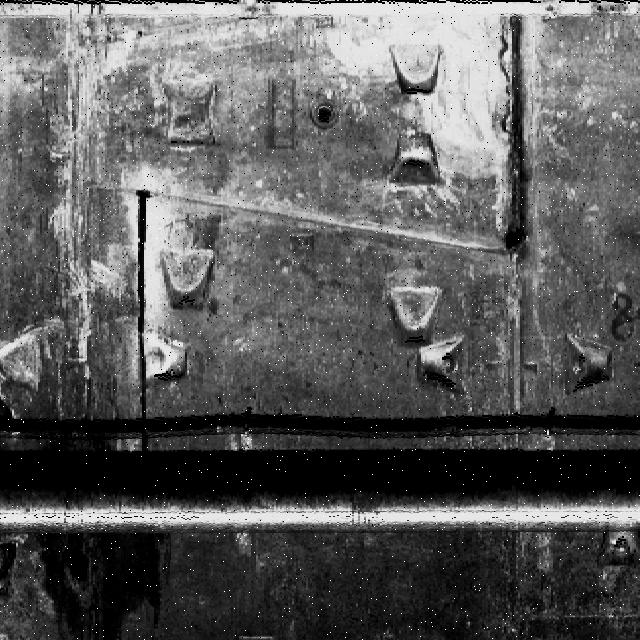leakage: (20, 521, 172, 639), (31, 408, 121, 450)
